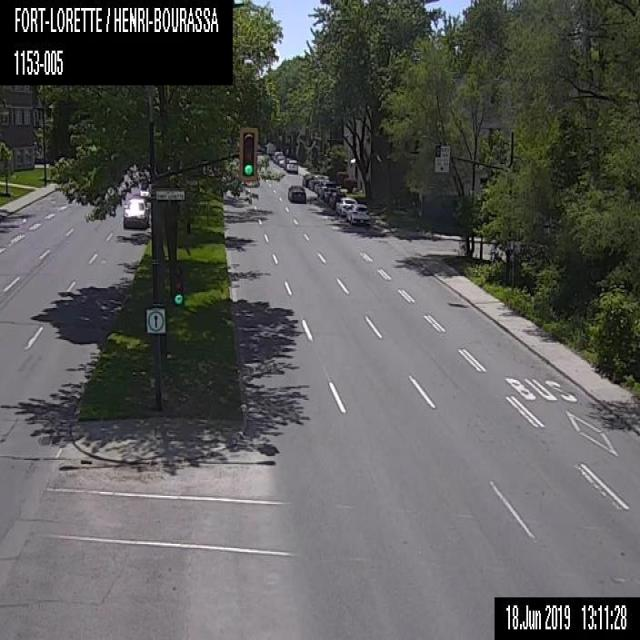vehicle: (121, 194, 149, 229), (346, 203, 372, 223), (334, 195, 357, 216), (312, 172, 329, 192), (321, 180, 338, 199), (288, 184, 305, 203), (328, 190, 346, 207), (138, 178, 150, 200), (316, 180, 329, 196), (285, 157, 298, 171), (302, 172, 312, 185), (272, 150, 282, 162), (283, 155, 291, 169), (276, 154, 285, 163), (307, 178, 313, 188)
